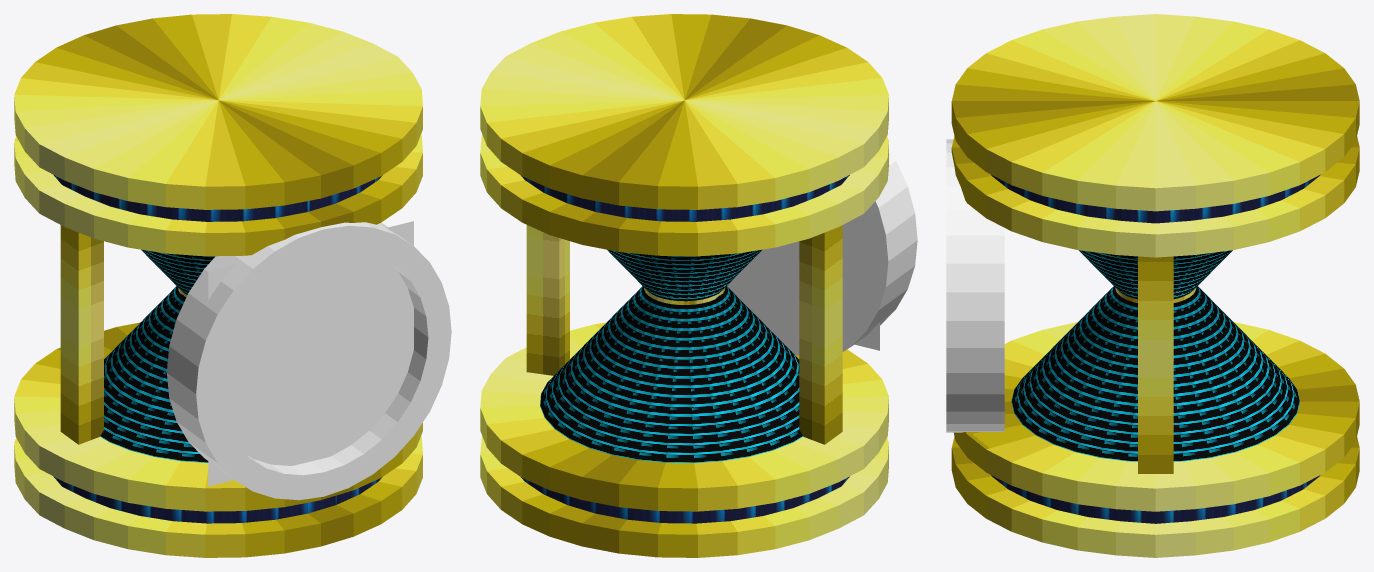
File: temporal_hourglass.obj
3 renders of one model, left to right at view 1: azimuth 30°, elevation 25°; view 2: azimuth 150°, elevation 25°; view 3: azimuth 270°, elevation 25°, orthographic.
Parts seen in each view (by area): view 1: Cylinder; view 2: Cylinder; view 3: Cylinder.
Boxes of the visible parts, bbox=[...] form: Cylinder: bbox=[14, 14, 451, 557]; Cylinder: bbox=[480, 14, 917, 557]; Cylinder: bbox=[946, 14, 1359, 557].
Size of the model in its own units: 1.01 by 1 by 1.01.
